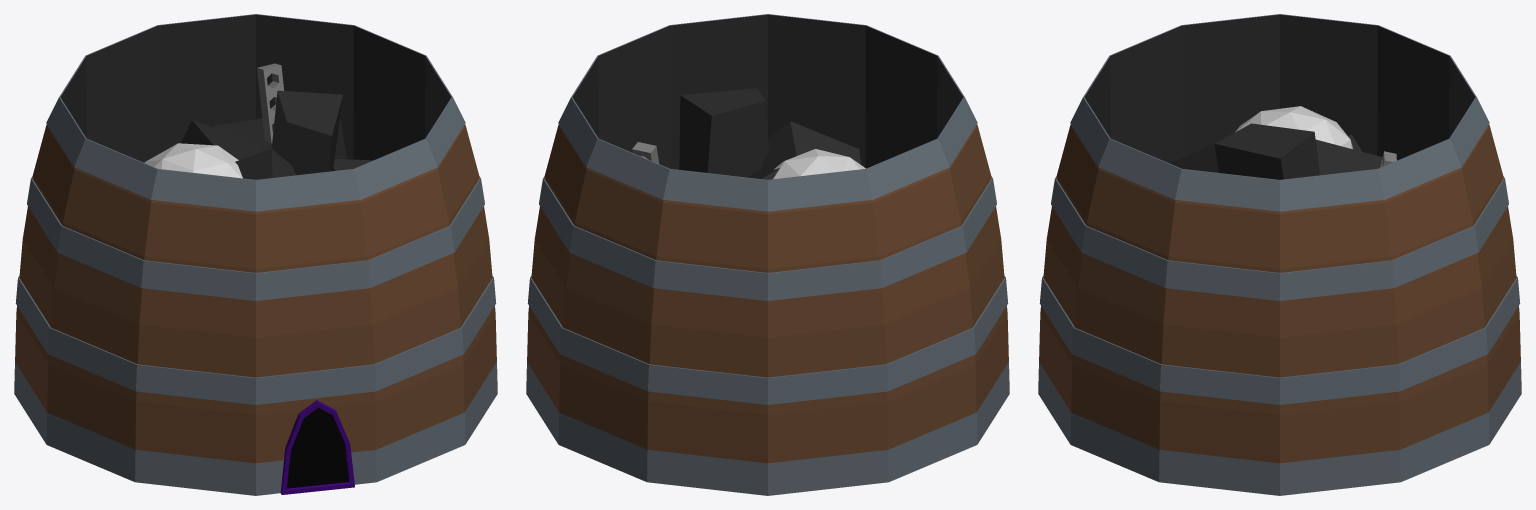
File: store-small.fbx
3 views of the same model, side by side, from view 1: azimuth 30°, elevation 25°; view 2: azimuth 150°, elevation 25°; view 3: azimuth 270°, elevation 25° (orthographic).
Visible parts, largest first — view 1: store, flotsamindicator; view 2: store, flotsamindicator; view 3: store, flotsamindicator.
Part boxes in pixels (box(x1,y1,x2,y2)): store: box(14, 14, 497, 495); flotsamindicator: box(144, 63, 372, 179); store: box(526, 14, 1009, 495); flotsamindicator: box(632, 88, 865, 179); store: box(1038, 14, 1521, 495); flotsamindicator: box(1170, 106, 1396, 179).
Size of the model in its own units: 1088 by 736 by 1088.
